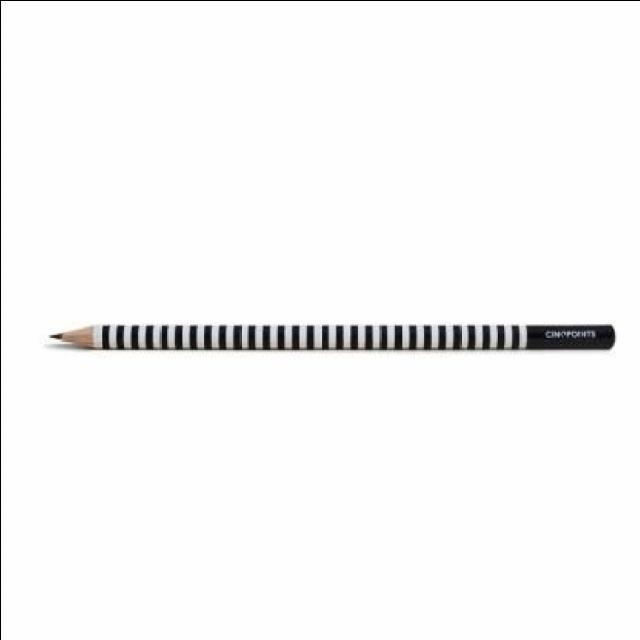pencil: (40, 314, 114, 357)
